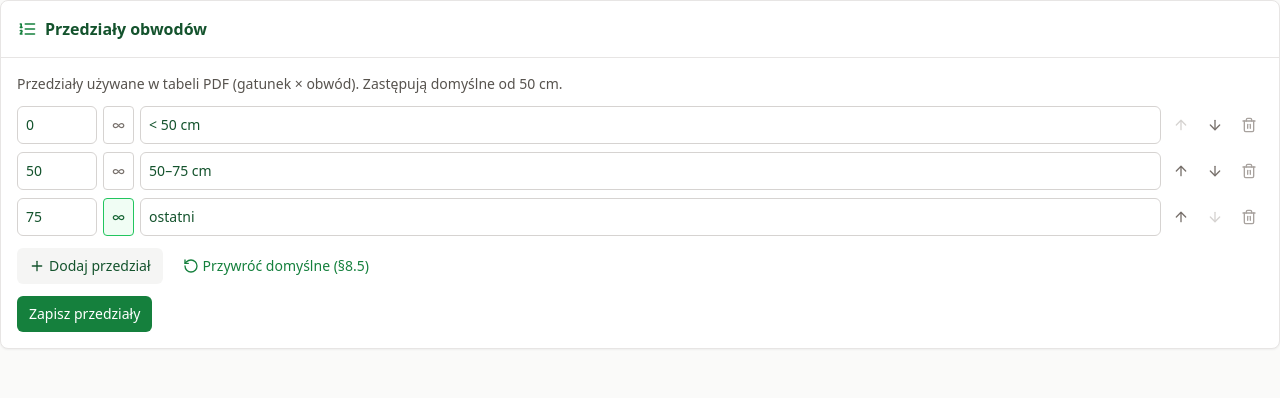
it: RangesEditor › should reject overlapping ranges
Replace the text in the number field named "Przedział 2 od" with "40": (57,171) [17,152,97,190]
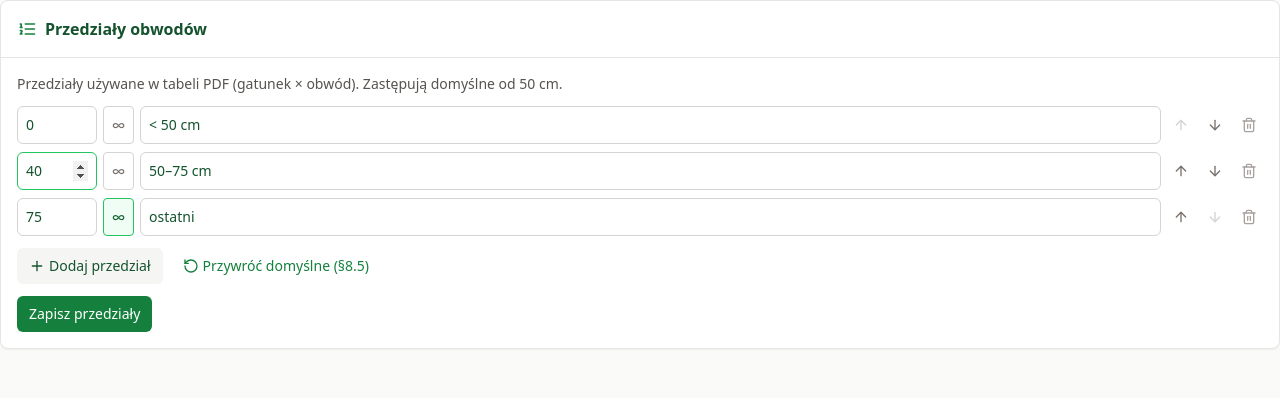
Click the button with test id "ranges-save": (85,314) [17,296,152,332]
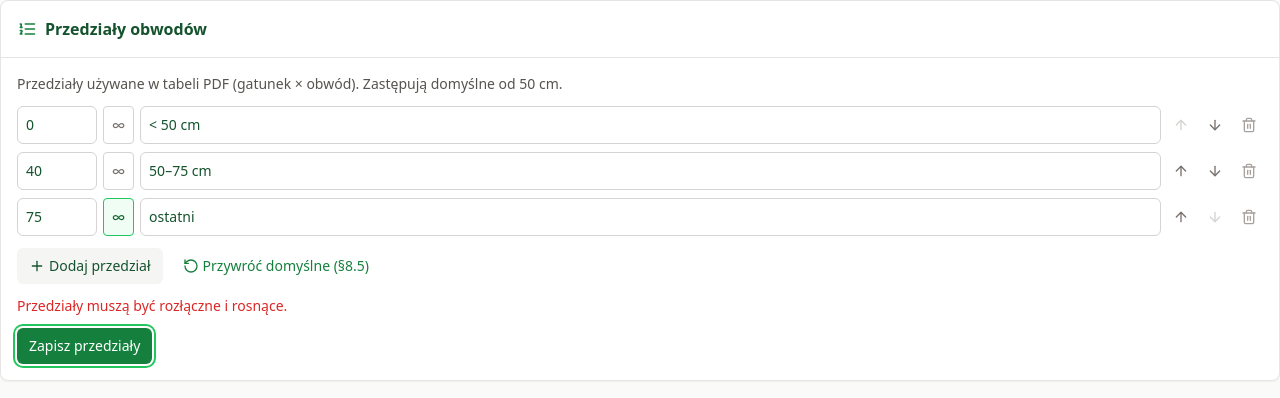
Result: the message with test id "ranges-error" shows "rozłączne" at [17,296,287,315]
